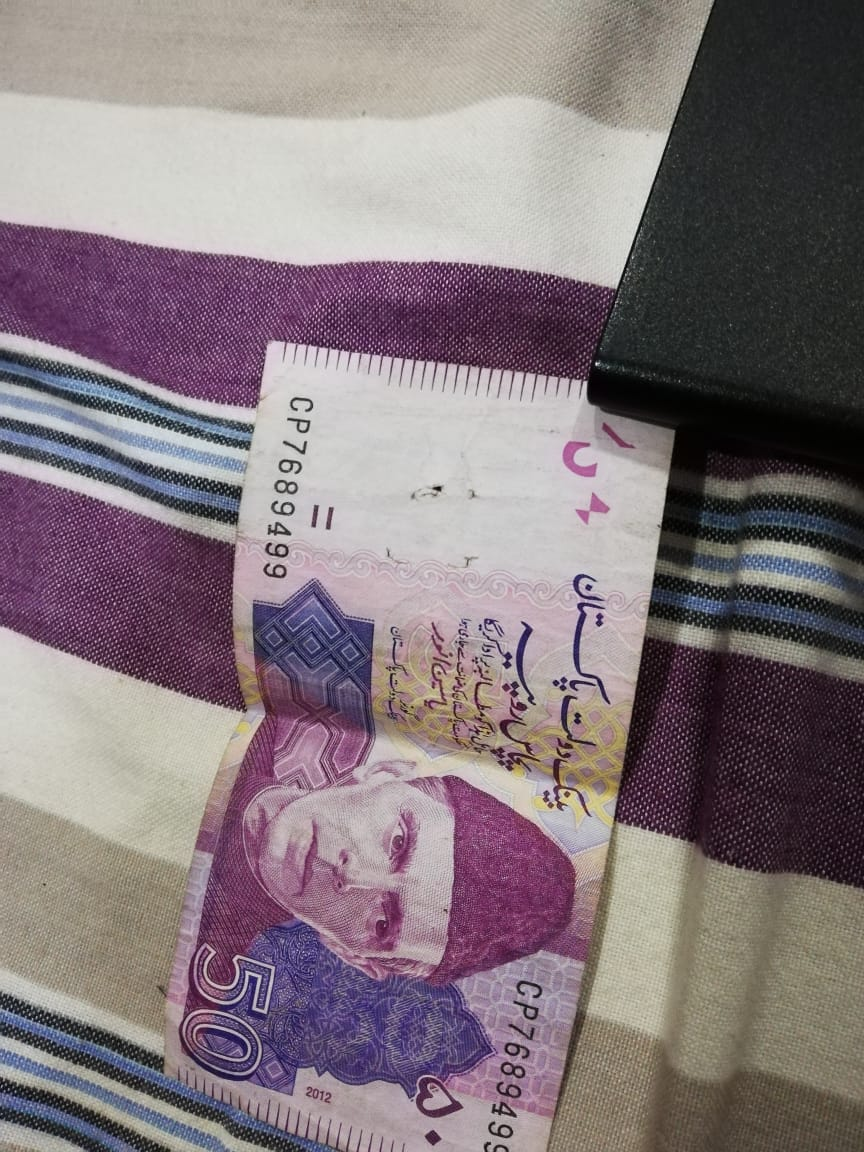50 rupee: (153, 289, 667, 1152)
